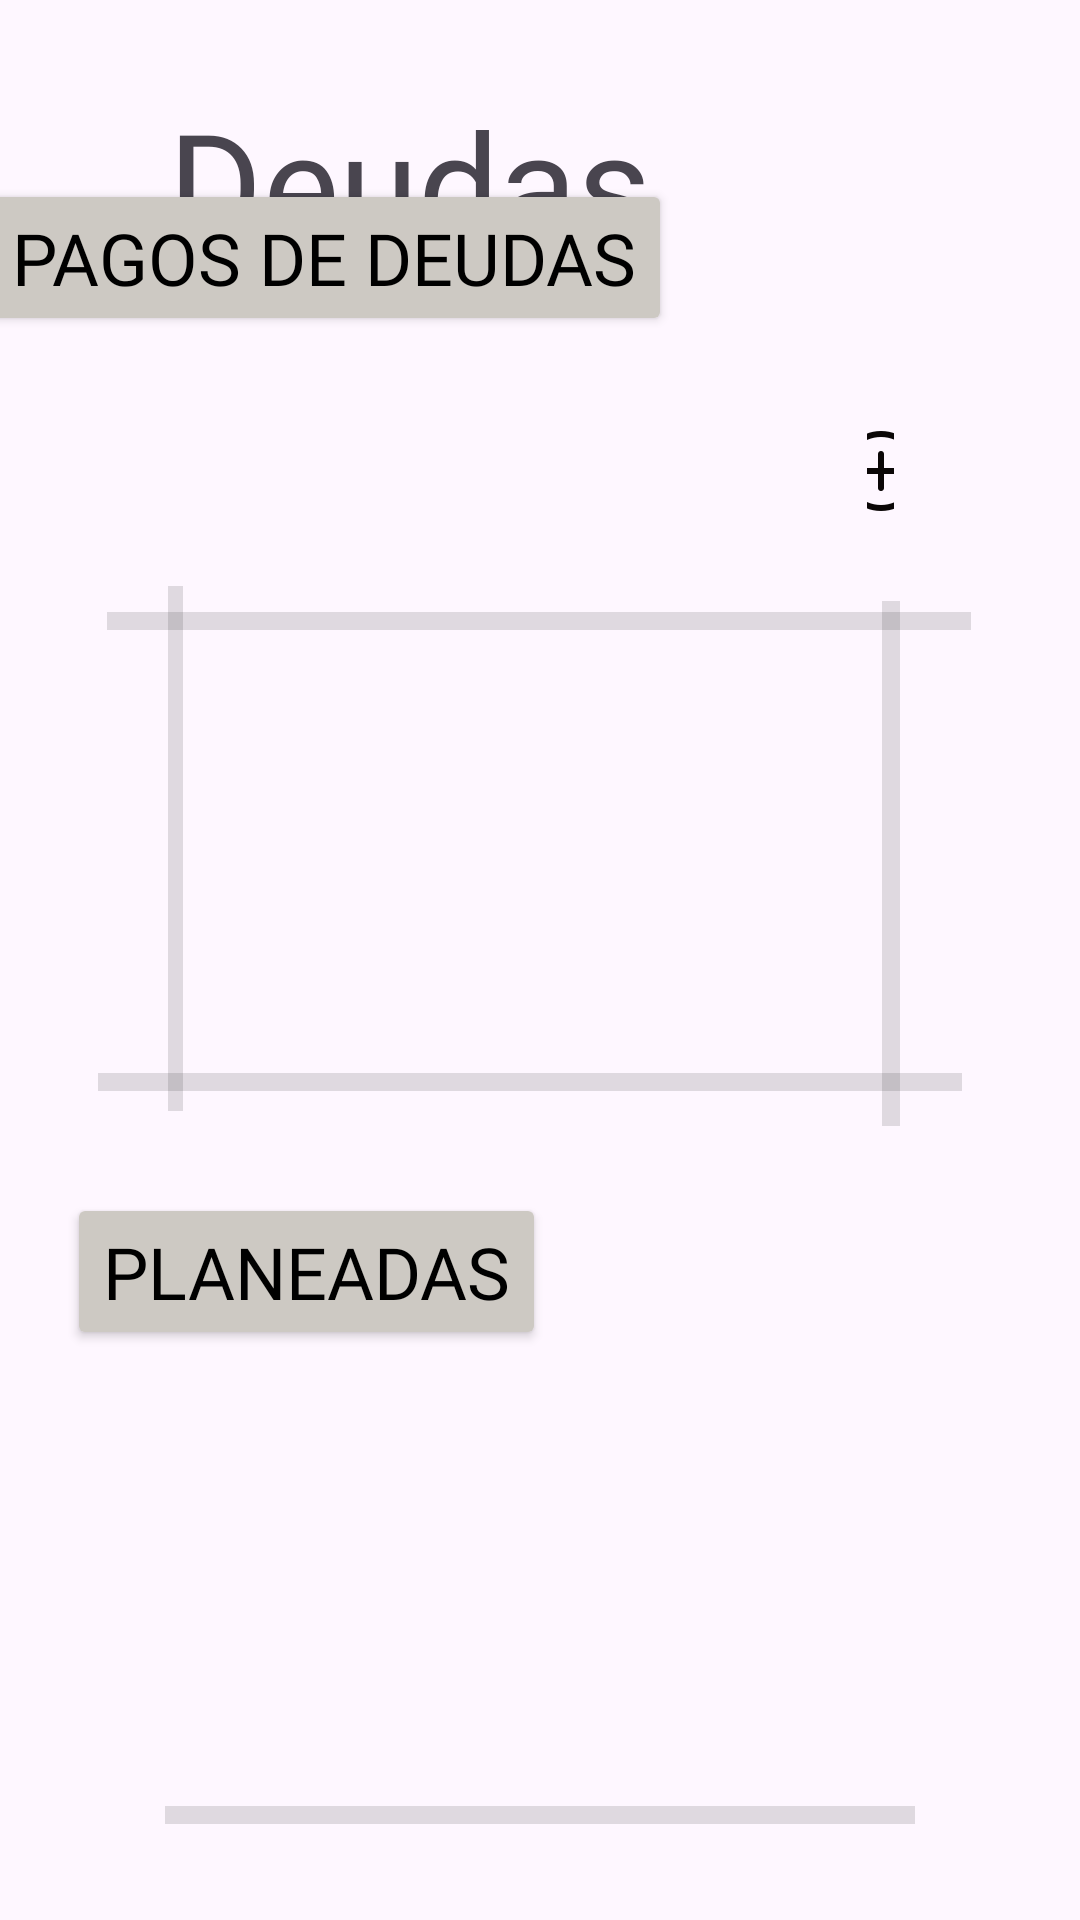

Named icons in this screenshot (1080*1920) and their centers, (x=x, y=y):
Añadir registro de egreso: (x=880, y=471)
